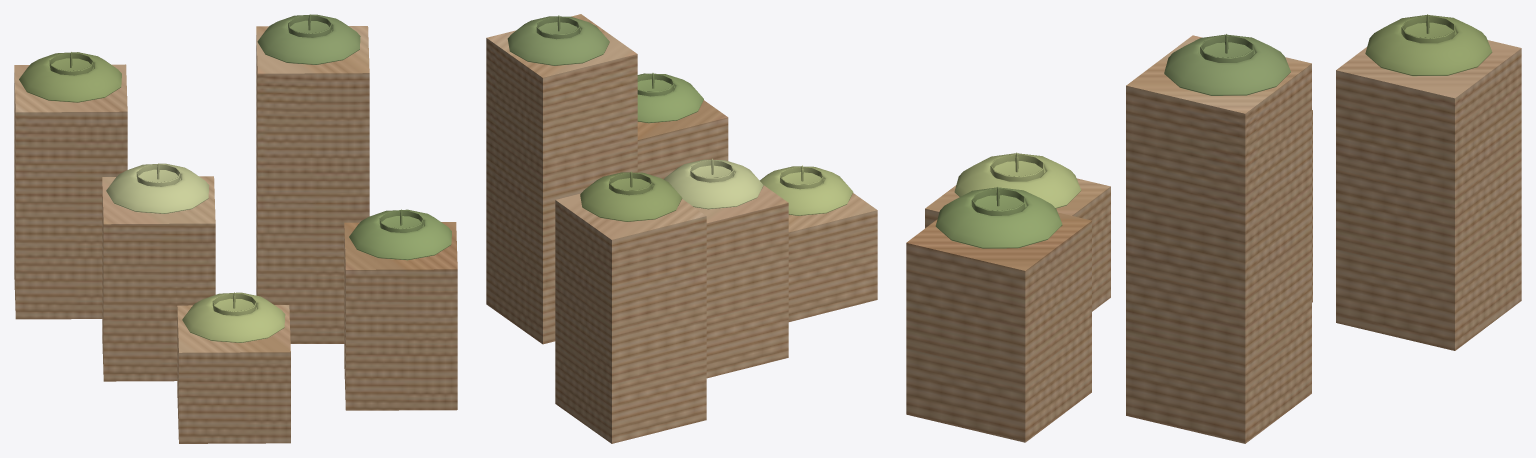
Rendered from lazhu.fbx.
3 renders of one model, left to right at view 1: azimuth 30°, elevation 25°; view 2: azimuth 150°, elevation 25°; view 3: azimuth 270°, elevation 25°, orthographic. The views are drawn at different scales.
Visible parts, largest first — view 1: lazhu; view 2: lazhu; view 3: lazhu.
Boxes of the visible parts, left/top/right/bottom form: lazhu: left=14, top=14, right=457, bottom=443; lazhu: left=486, top=14, right=877, bottom=443; lazhu: left=906, top=14, right=1521, bottom=443.
Bounding box in the file's own units: 23.62 × 23.43 × 35.22.
